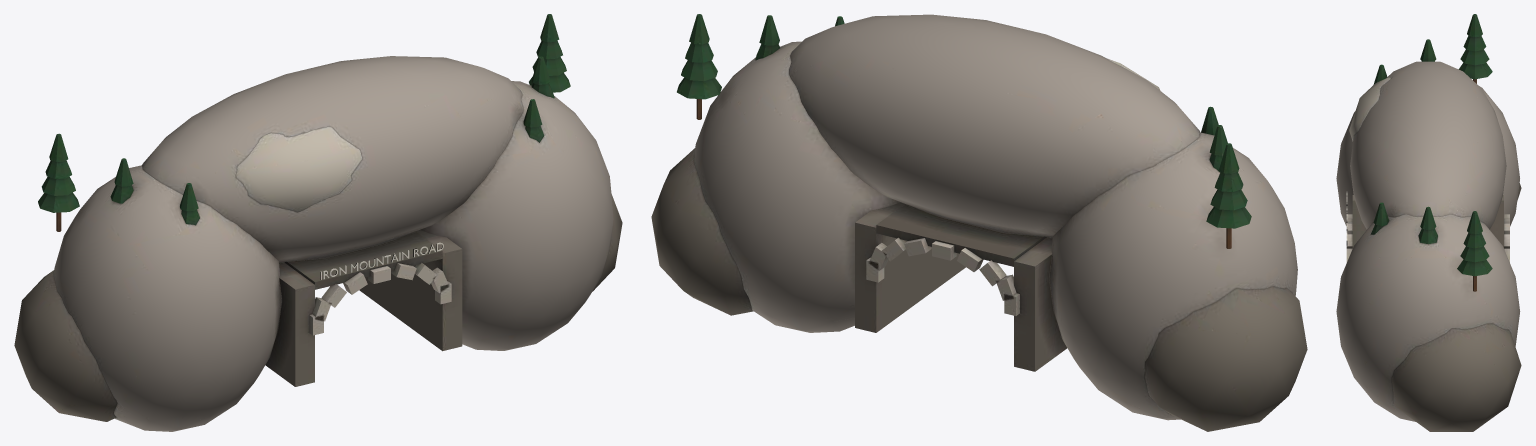
The model's file is tunel_roca.glb.
3 views of the same model, side by side, from view 1: azimuth 30°, elevation 25°; view 2: azimuth 150°, elevation 25°; view 3: azimuth 270°, elevation 25° (orthographic). The views are drawn at different scales.
Parts seen in each view (by area): view 1: tunel_roca; view 2: tunel_roca; view 3: tunel_roca.
Part boxes in pixels (left/top/right/bottom): tunel_roca: left=14, top=14, right=622, bottom=431; tunel_roca: left=651, top=14, right=1307, bottom=431; tunel_roca: left=1336, top=14, right=1521, bottom=431.
Bounding box in the file's own units: 47.41 × 24.18 × 15.89.
Materials: 1 (1 with a texture image).
